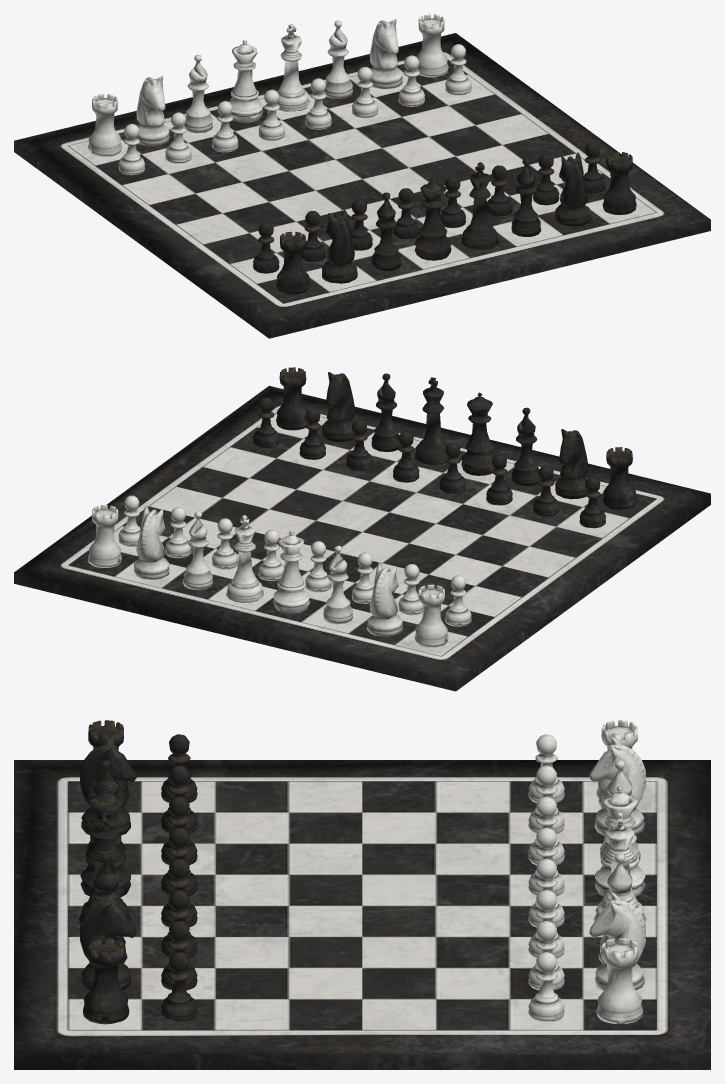
Rendered from chess_set.glb.
3 renders of one model, top to bottom at view 1: azimuth 30°, elevation 25°; view 2: azimuth 150°, elevation 25°; view 3: azimuth 270°, elevation 25°, orthographic. The views are drawn at different scales.
Visible parts, largest first — view 1: board, piece_queen_black, piece_knight_black_01, piece_knight_black_02, piece_queen_white, piece_knight_white_02, piece_knight_white_01, piece_king_black, piece_king_white, piece_rook_black_02, piece_rook_black_01, piece_rook_white_02 (+21 smaller); view 2: board, piece_queen_white, piece_knight_white_01, piece_knight_white_02, piece_queen_black, piece_knight_black_02, piece_knight_black_01, piece_king_white, piece_king_black, piece_rook_white_02, piece_rook_black_01, piece_rook_white_01 (+21 smaller); view 3: board, piece_rook_black_02, piece_rook_white_01, piece_knight_white_01, piece_knight_black_02, piece_knight_black_01, piece_knight_white_02, piece_queen_white, piece_queen_black, piece_pawn_black_08, piece_pawn_white_01, piece_king_black (+21 smaller).
Part boxes in pixels (x1,y1,x2,y2): board: (14, 33, 710, 338); piece_queen_black: (414, 177, 451, 260); piece_knight_black_01: (322, 209, 357, 283); piece_knight_black_02: (555, 152, 590, 226); piece_queen_white: (228, 40, 263, 122); piece_knight_white_02: (136, 75, 169, 145); piece_knight_white_01: (369, 19, 402, 89); piece_king_black: (461, 162, 498, 249); piece_king_white: (276, 24, 310, 111); piece_rook_black_02: (602, 152, 636, 214); piece_rook_black_01: (276, 231, 309, 294); piece_rook_white_02: (88, 94, 121, 156); board: (14, 385, 710, 691); piece_queen_white: (273, 531, 310, 613); piece_knight_white_01: (133, 505, 169, 579); piece_knight_white_02: (367, 562, 402, 636); piece_queen_black: (461, 392, 495, 475); piece_knight_black_02: (322, 372, 354, 442); piece_knight_black_01: (555, 429, 588, 499); piece_king_white: (226, 515, 263, 602); piece_king_black: (414, 377, 448, 464); piece_rook_white_02: (414, 584, 448, 647); piece_rook_black_01: (602, 447, 636, 509); piece_rook_white_01: (88, 505, 121, 567); board: (14, 760, 710, 1069); piece_rook_black_02: (83, 938, 129, 1024); piece_rook_white_01: (596, 938, 642, 1023); piece_knight_white_01: (589, 892, 645, 990); piece_knight_black_02: (80, 892, 136, 990); piece_knight_black_01: (80, 737, 136, 835); piece_knight_white_02: (589, 736, 645, 835); piece_queen_white: (594, 786, 645, 897); piece_queen_black: (80, 786, 130, 897); piece_pawn_black_08: (161, 952, 197, 1021); piece_pawn_white_01: (528, 952, 564, 1021); piece_king_black: (78, 812, 131, 923).
Bounding box in the file's own units: 0.5482 × 0.1103 × 0.5482.
3 materials, 3 textured.
